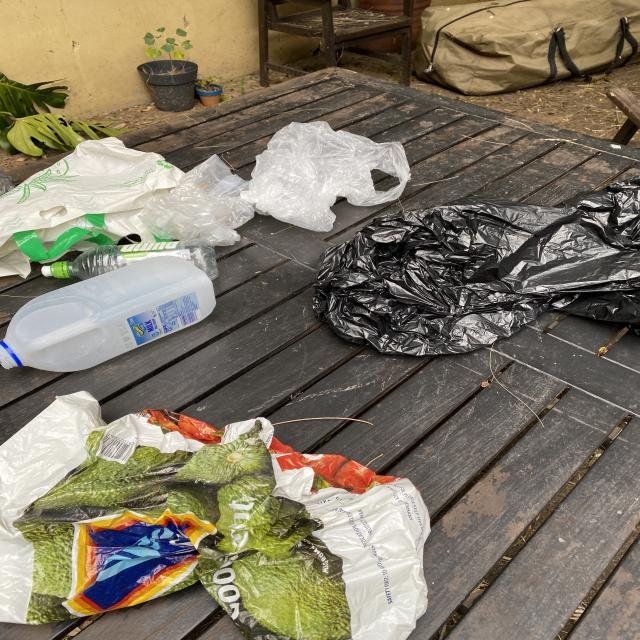bag: (0, 389, 431, 640), (313, 175, 640, 357), (0, 136, 186, 276), (241, 120, 411, 232), (137, 154, 257, 245)
bottle: (0, 255, 216, 372), (42, 238, 218, 281)
